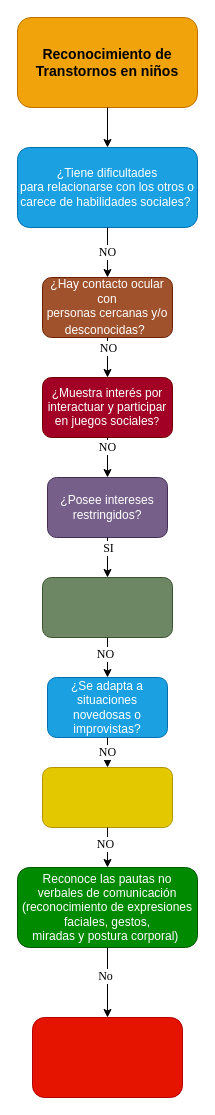
The diagram is 215 pixels wide and 1115 high, and some of its shapes have lost their labels. Each missing label, with the centre of its shape:
"DAMP" goes at (x=107, y=1057).
"¿Se observa hiper o hiporreactividad a estímulos sensoriales?" goes at (x=107, y=797).
"¿Sigue comportamientos ritualizados (horarios rígidos y repetitivos)?" goes at (x=107, y=607).
